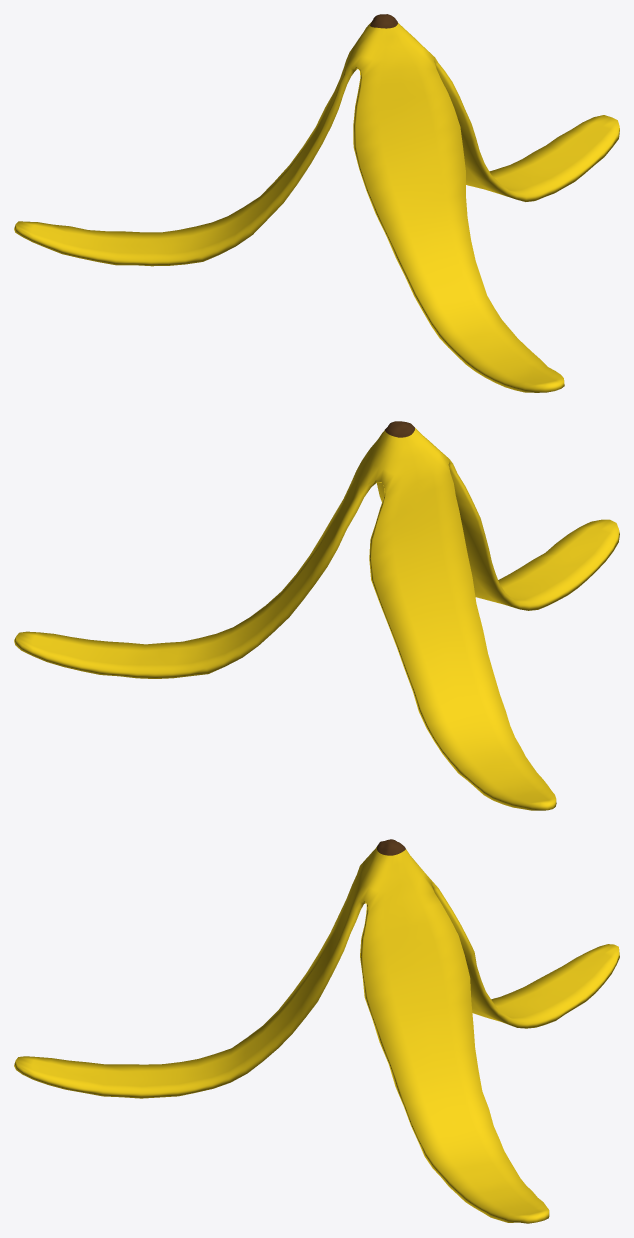
Rendered from banana.glb.
The picture shows the model from 3 angles, top to bottom: view 1: azimuth 30°, elevation 25°; view 2: azimuth 150°, elevation 25°; view 3: azimuth 270°, elevation 25°; orthographic projection. The views are drawn at different scales.
Parts seen in each view (by area): view 1: Plane; view 2: Plane; view 3: Plane.
Boxes of the visible parts, x1,y1,x2,y2 form: Plane: [14, 14, 619, 392]; Plane: [14, 421, 619, 810]; Plane: [14, 839, 619, 1223].
Size of the model in its own units: 18.67 by 7.91 by 17.4.
